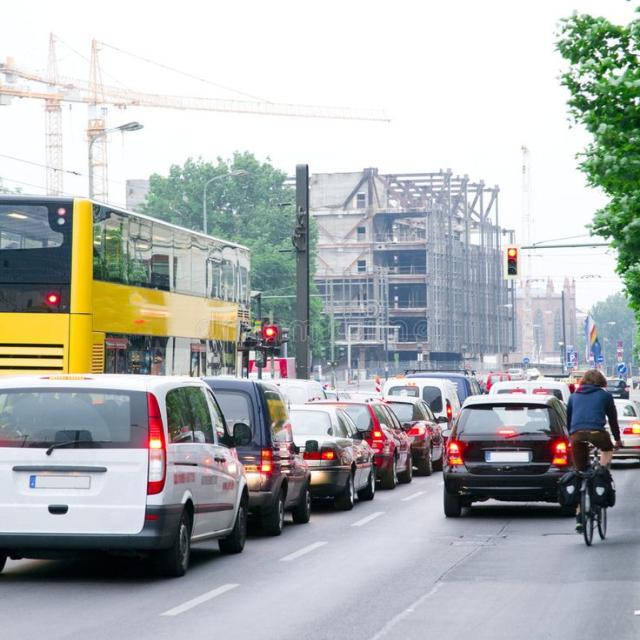car: (16, 377, 290, 549), (317, 381, 564, 505)
